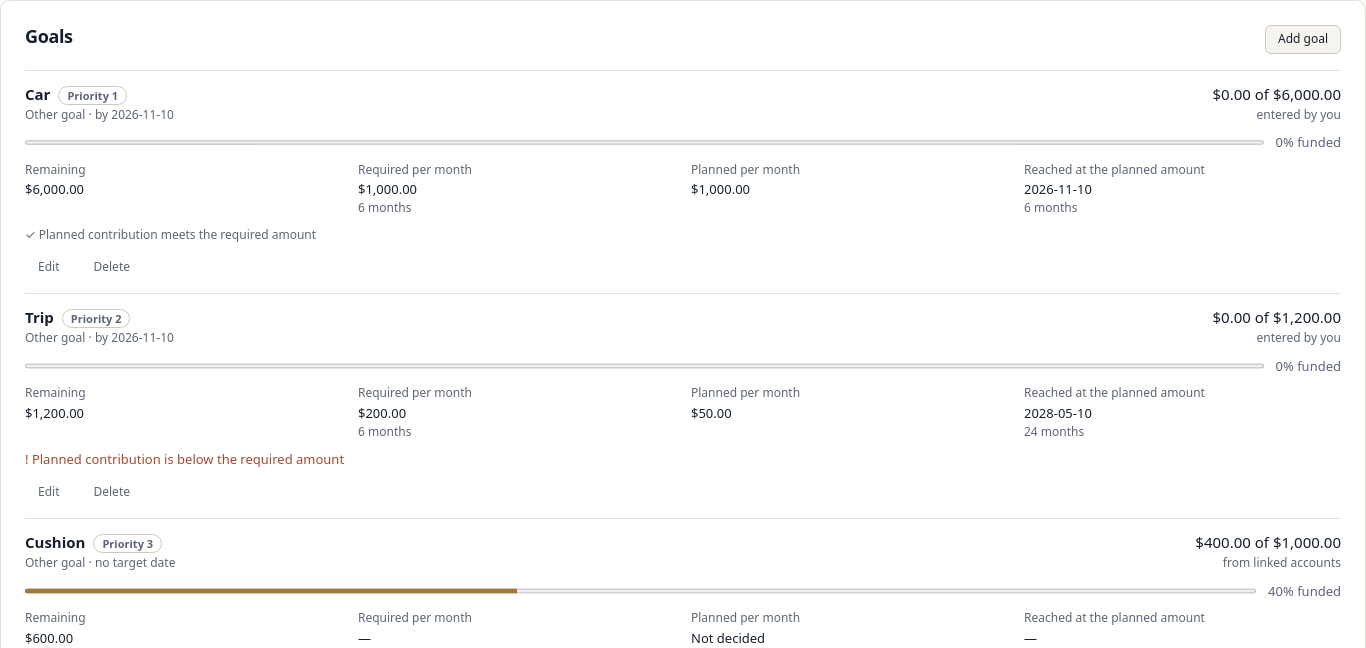
GoalsView › refuses an invalid goal and says why
The width and height of the screenshot is (1366, 648).
Click the button "Add goal": [1303, 39] box [1265, 25, 1341, 54]
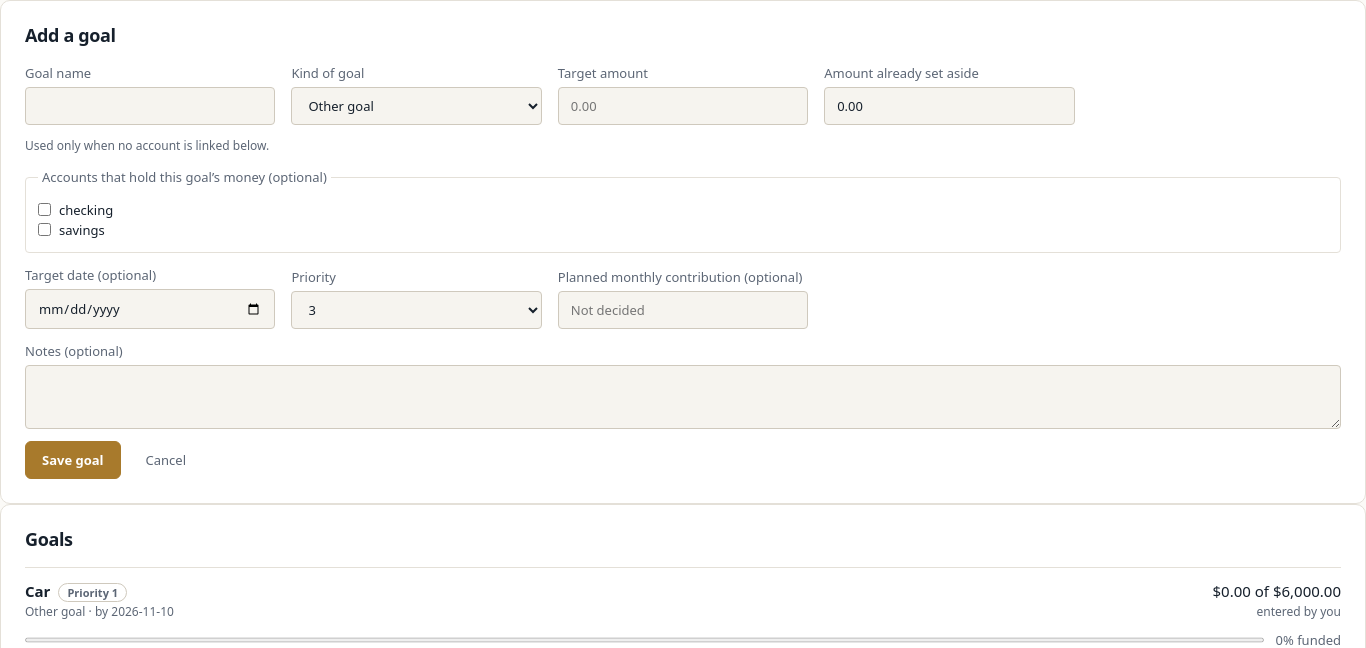
Click the button "Save goal": [73, 460] box [25, 441, 121, 479]
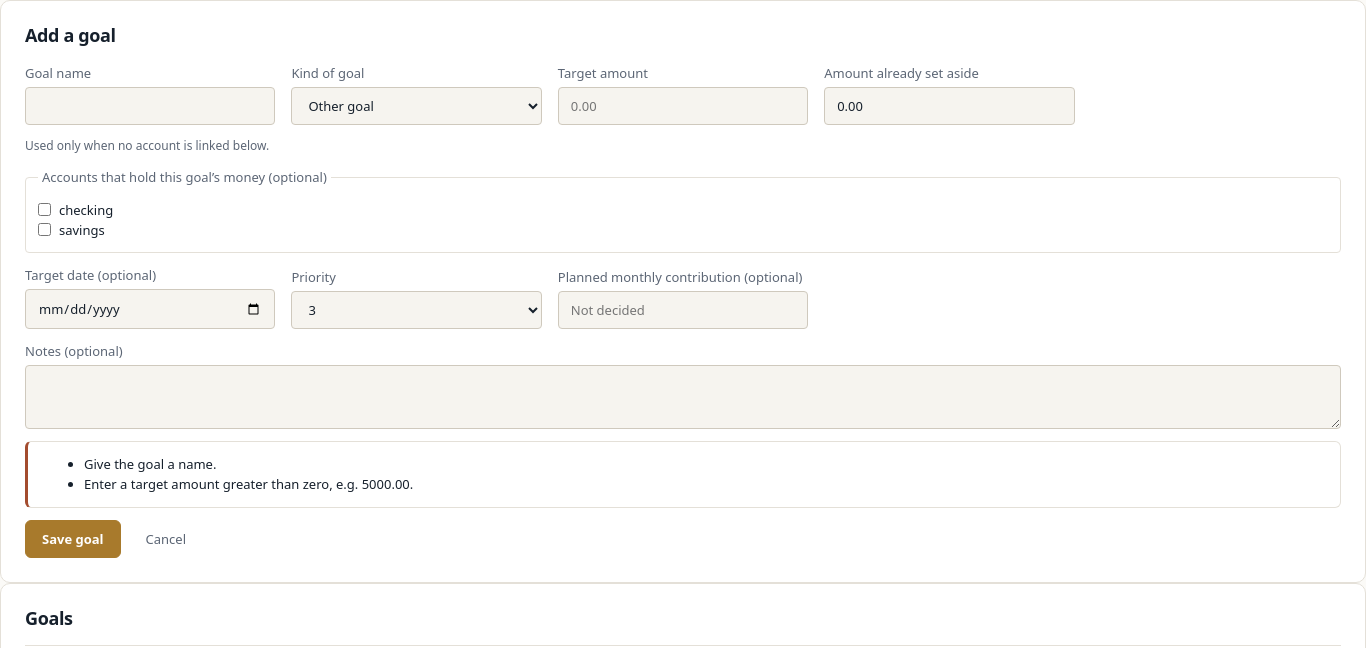
Result: the message shows "Give the goal a name" at [84, 455, 216, 473]
Result: the message shows "target amount greater than zero" at [84, 476, 413, 494]
